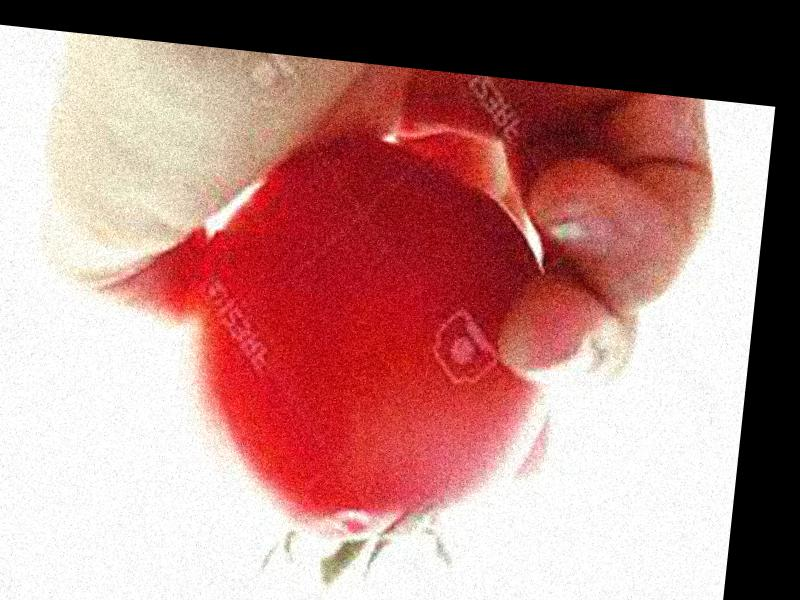Tomato: (166, 128, 576, 565)
